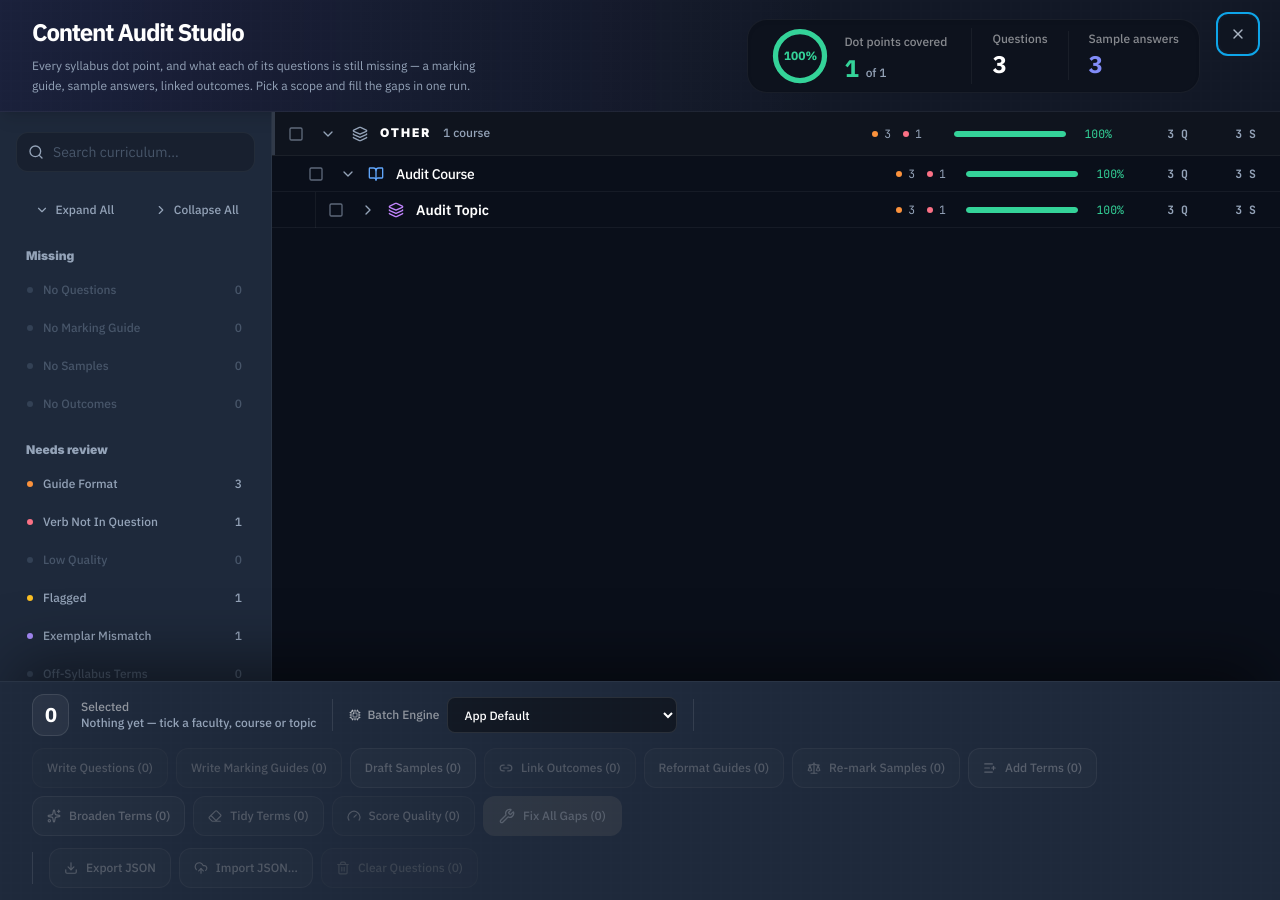
Test: Content Audit Studio — the tree keeps the admin’s own state › a filter does not permanently expand what the admin collapsed
Collapse everything, then narrow with a filter: the filtered rows open…
Click the button "Collapse All" at (196, 210), box [138,192,255,228]
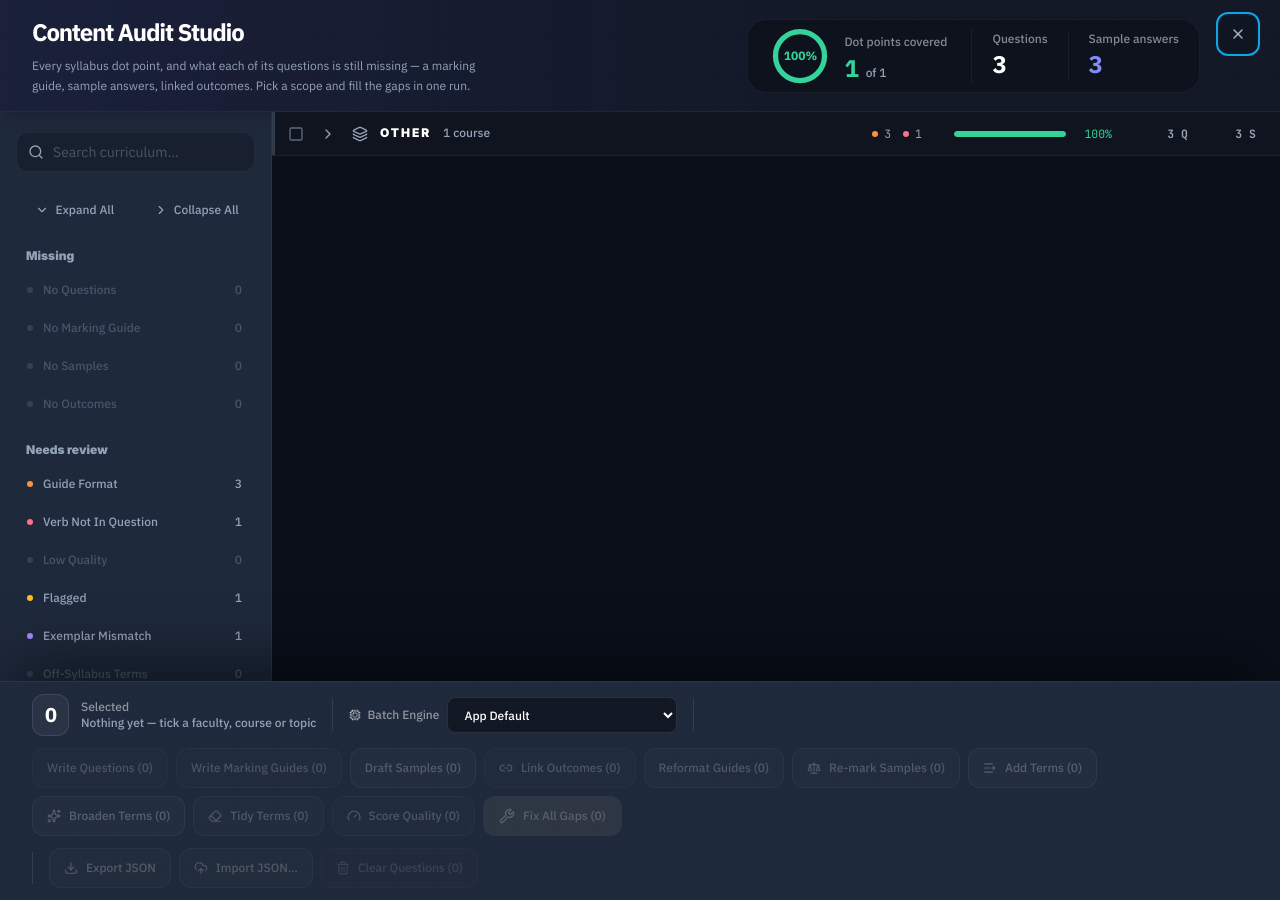
Now the text "Audit Topic" is gone
Click the button "Flagged 1" at (136, 598), box [16,580,255,616]
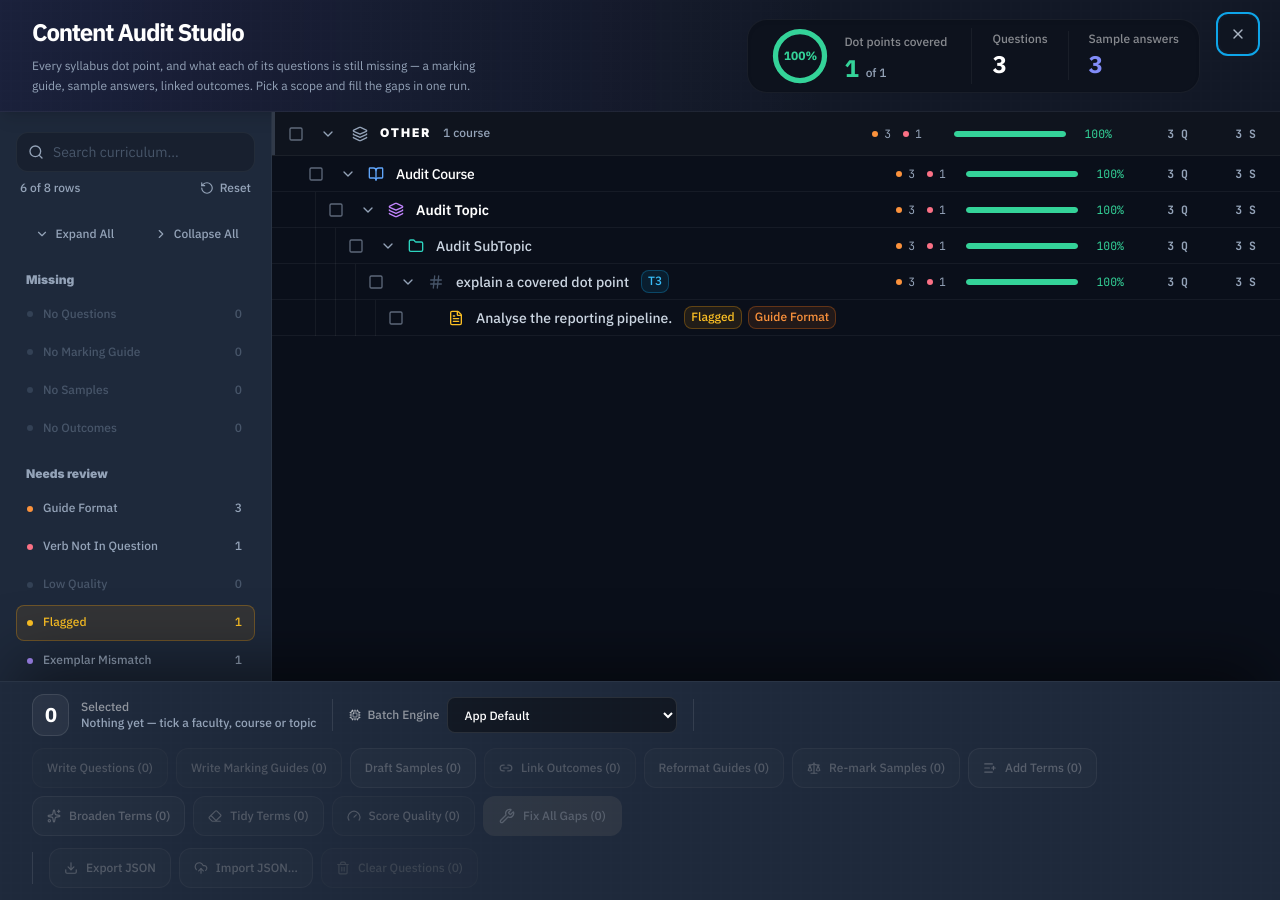
Now the text "Analyse the reporting pipeline." is shown, box [476,308,672,328]
Click the button "Flagged 1" at (136, 623), box [16,605,255,641]
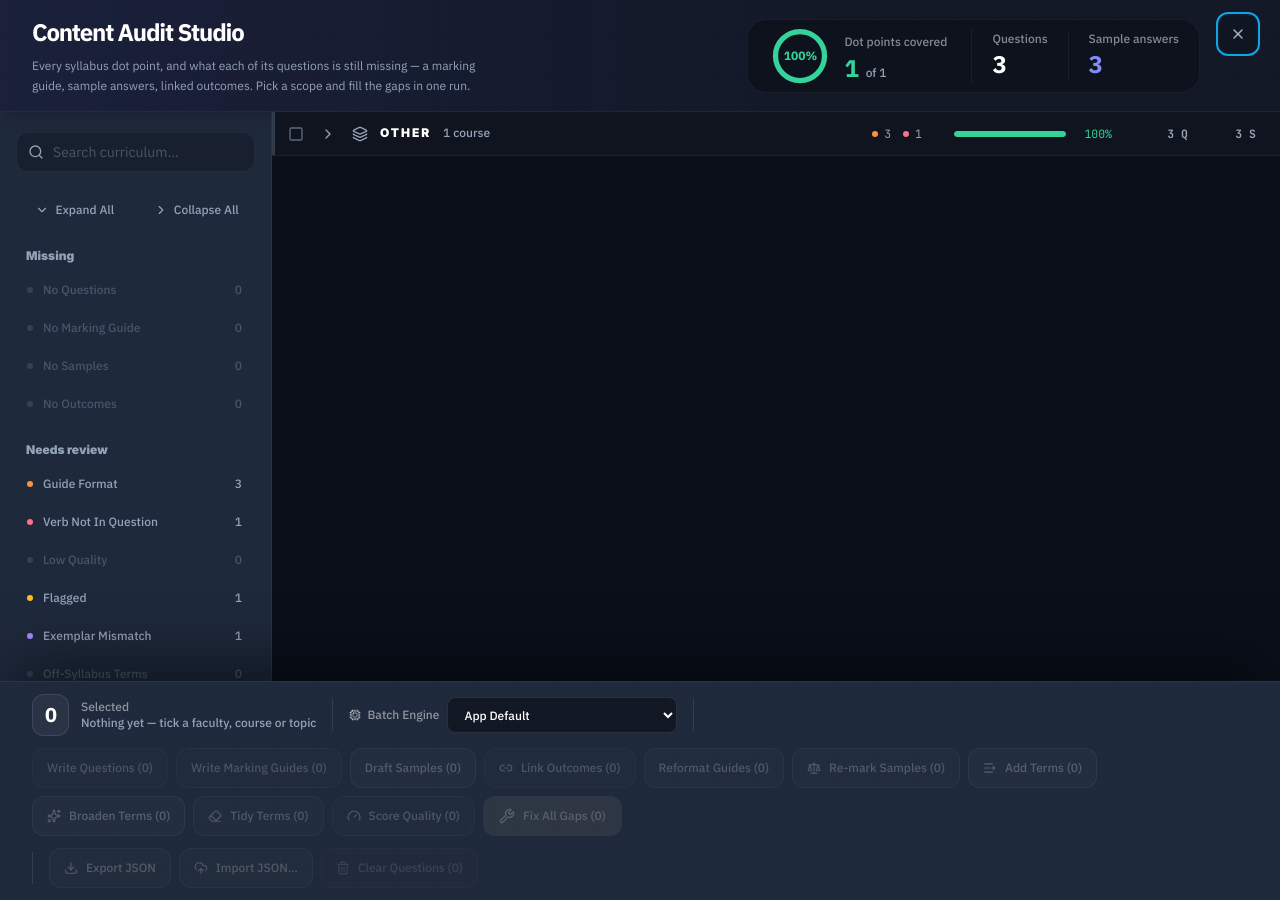
Now the text "Audit Topic" is gone
